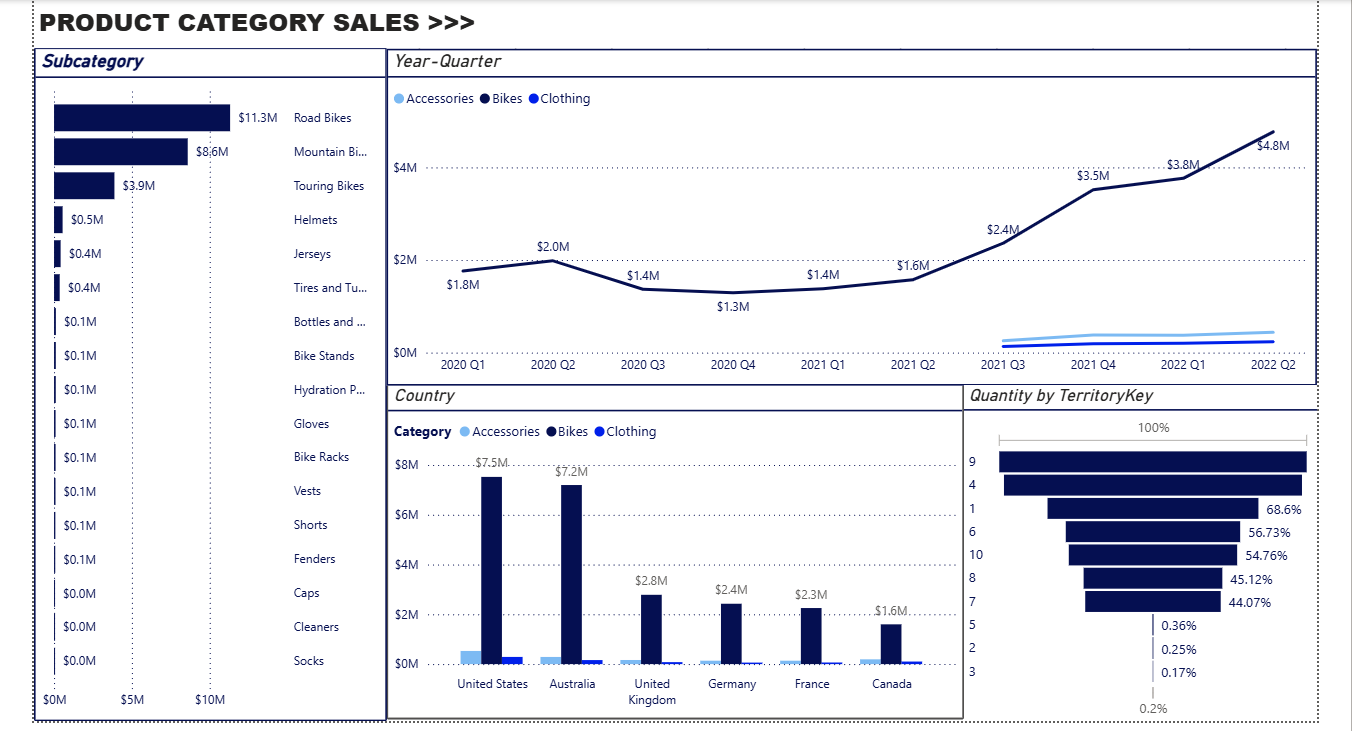

This screenshot's page, from the dashboard's own definition file:
{"tool":"powerbi","page":{"name":"Product","canvas":[1280,720],"ordinal":3},"visuals":[{"type":"clusteredColumnChart","title":"Country","fields":{"Category":["Location.Country"],"Y":["Sum(Sales Data.Sales)"],"Series":["Product Category_Subcategories.CategoryName"]},"box":[352,381,576,336],"z":0},{"type":"clusteredBarChart","title":"Subcategory","fields":{"Category":["Product Category_Subcategories.SubcategoryName"],"Y":["Sum(Sales Data.Sales)"]},"box":[0,48,352,672],"z":1000},{"type":"lineChart","title":" Year-Quarter ","fields":{"Y":["Sum(Sales Data.Sales)"],"Series":["Product Category_Subcategories.CategoryName"],"Category":["DateTable.Year-Quarter"]},"box":[352,48,928,336],"z":2000},{"type":"funnel","title":" Quantity by TerritoryKey","fields":{"Category":["Location.SalesTerritoryKey"],"Y":["Measures Table.Total Quantity"]},"box":[928,384,352,336],"z":3000},{"type":"textbox","box":[0,0,1280,48],"z":4000}]}

Visuals, with their boxes in screenshot pixels (x1, y1, x2, y2):
"Country" clusteredColumnChart: 381:379:959:716
"Subcategory" clusteredBarChart: 28:45:381:719
" Year-Quarter " lineChart: 381:45:1312:382
" Quantity by TerritoryKey" funnel: 959:382:1312:719
textbox: 28:0:1312:45
